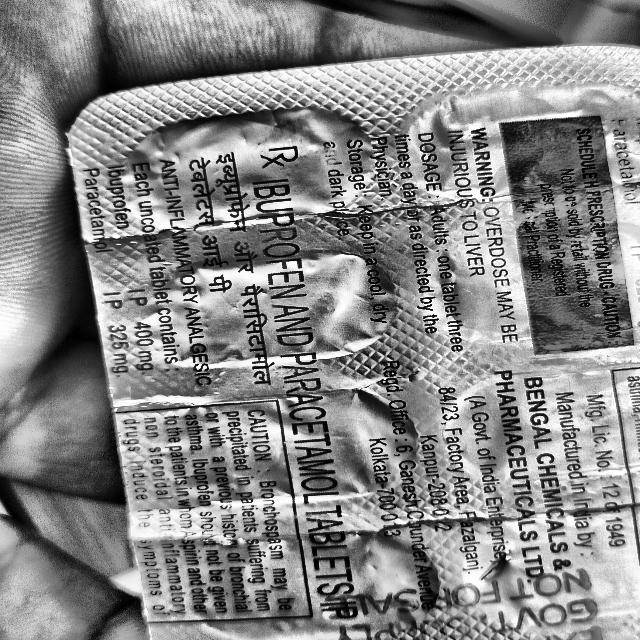IBUPROFEN AND PARACETAMOL TABLETS: (227, 176, 401, 640)
